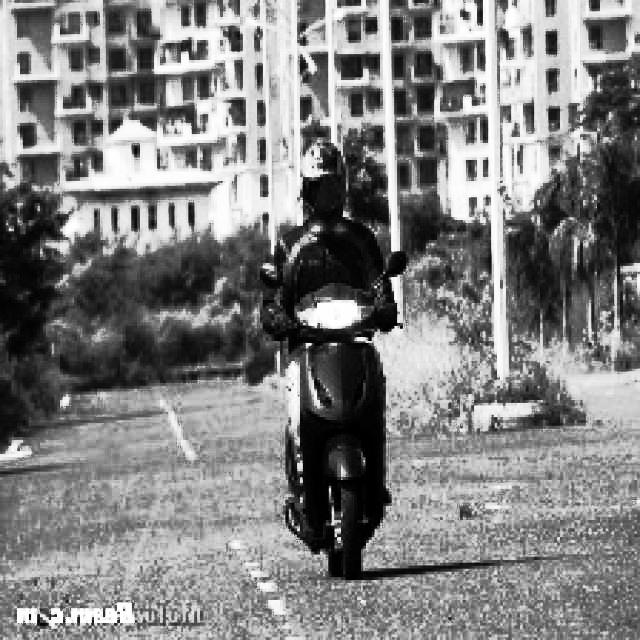Bike: (286, 275, 399, 581)
